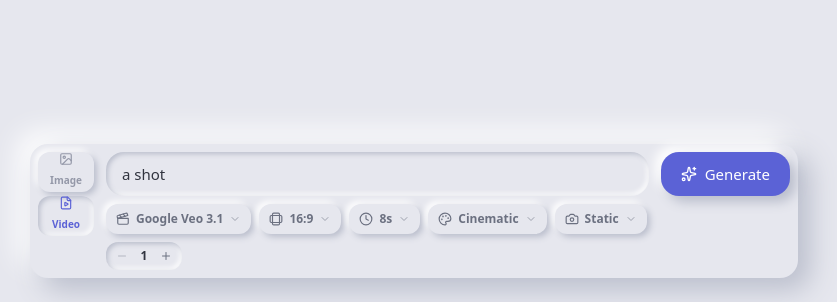
CinemaBottomBar › offers only the durations the selected model supports
Note: Veo 3.1 offers 4, 6 and 8 seconds — 5 and 7 are the ones it does not.
Click the button "8s" at (385, 219), box top-left (349, 204), bottom-right (420, 234)
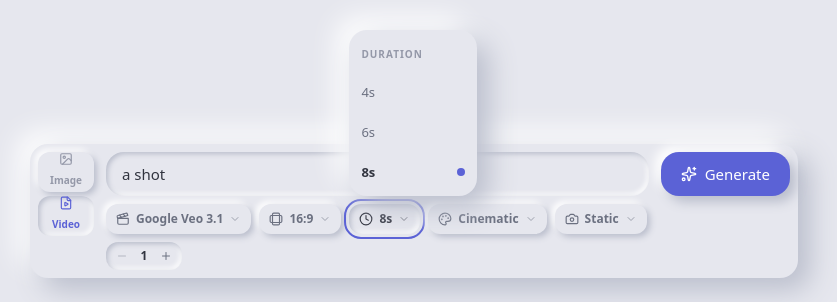
Now the option "4s" is shown, box top-left (349, 72), bottom-right (477, 112)
